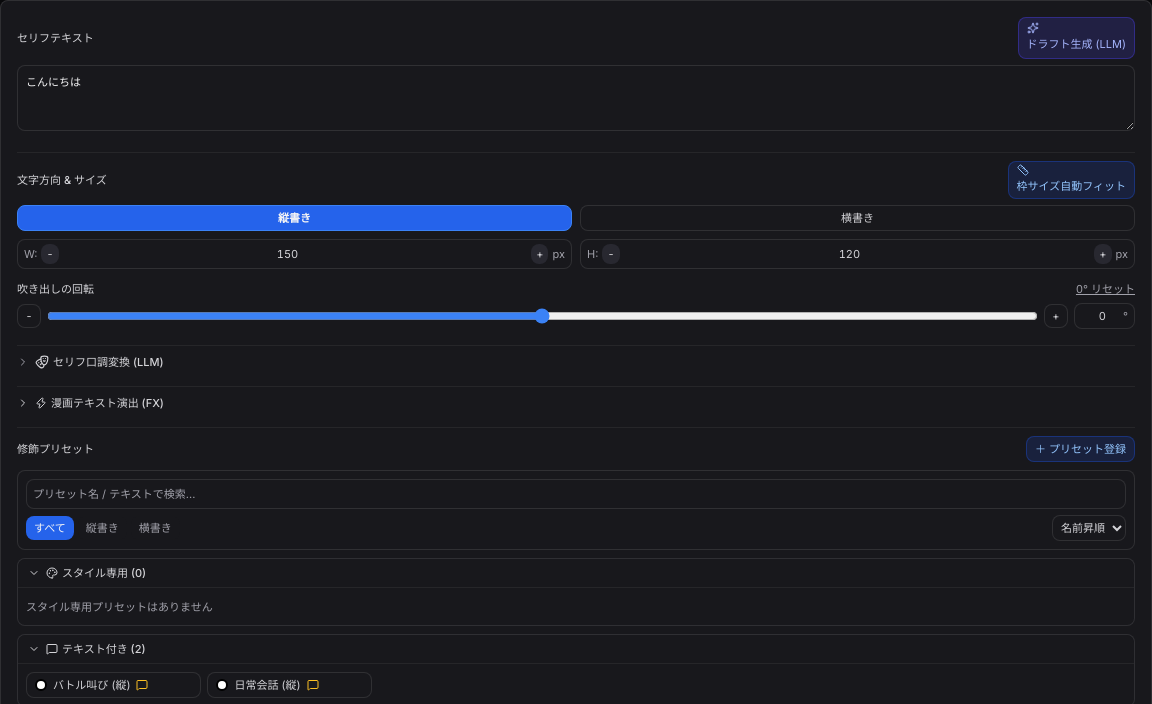
it: SpeechBubbleControls › filters presets in real-time by search query across name and text (AC-3)
Expected: the text "日常会話 (縦)" is shown, [234, 677, 301, 693]
Expected: the text "バトル叫び (縦)" is shown, [53, 677, 130, 693]
# Search by name
In the field named "プリセット検索": coordinates (576, 494) [26, 479, 1126, 509], type "バトル"
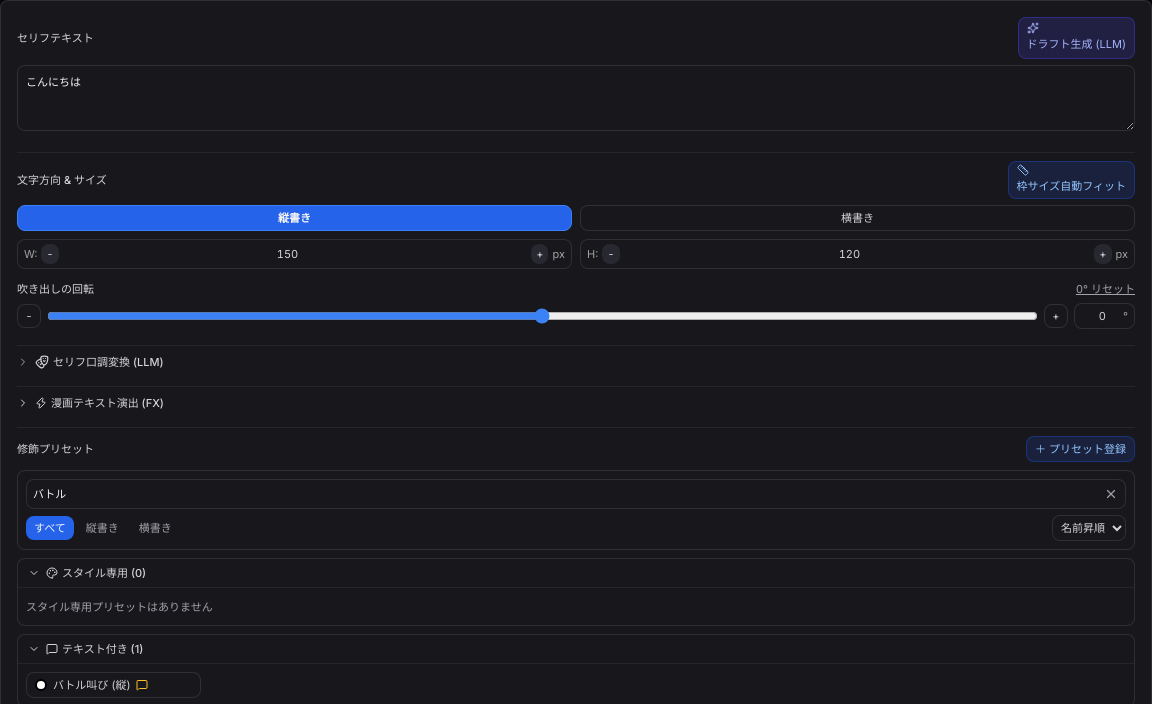
Expected: the text "バトル叫び (縦)" is shown, [53, 677, 130, 693]
Result: the button "日常会話 (縦)" is gone
# Search by text
Replace the text in the field named "プリセット検索" with "こんにちは": coordinates (576, 494) [26, 479, 1126, 509]
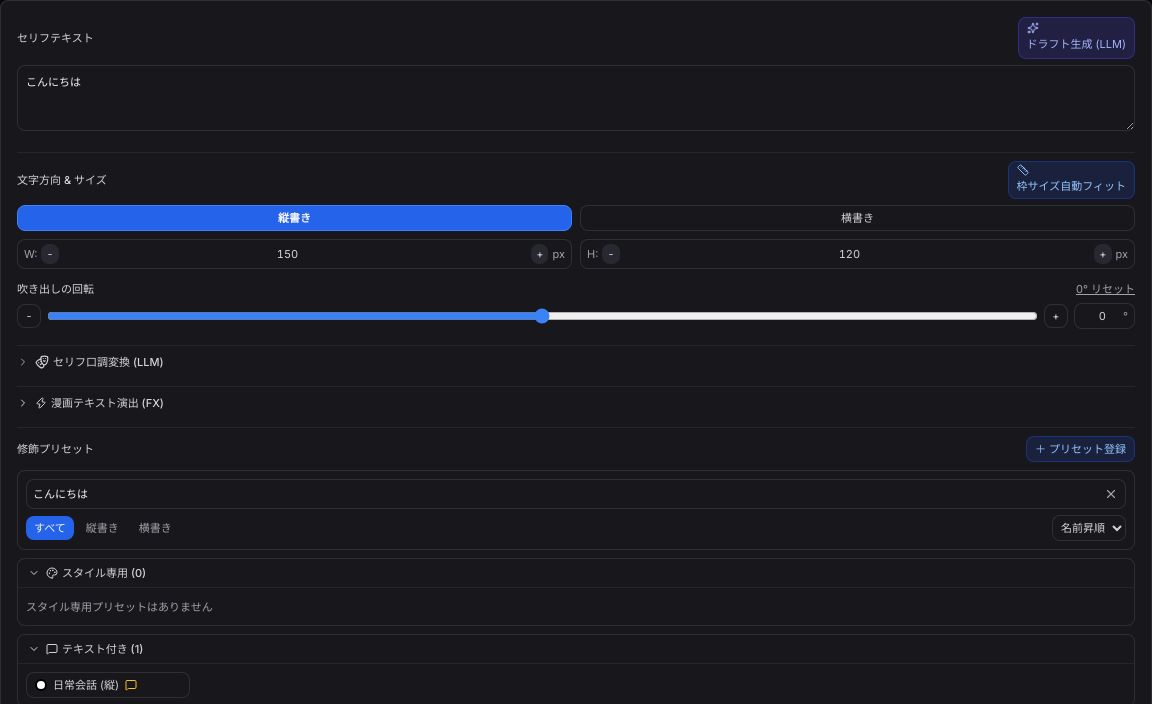
Result: the text "日常会話 (縦)" is shown at [53, 677, 119, 693]
Result: the button "バトル叫び (縦)" is gone
# Search non-matching
Replace the text in the field named "プリセット検索" with "該当なし検索語": coordinates (576, 494) [26, 479, 1126, 509]
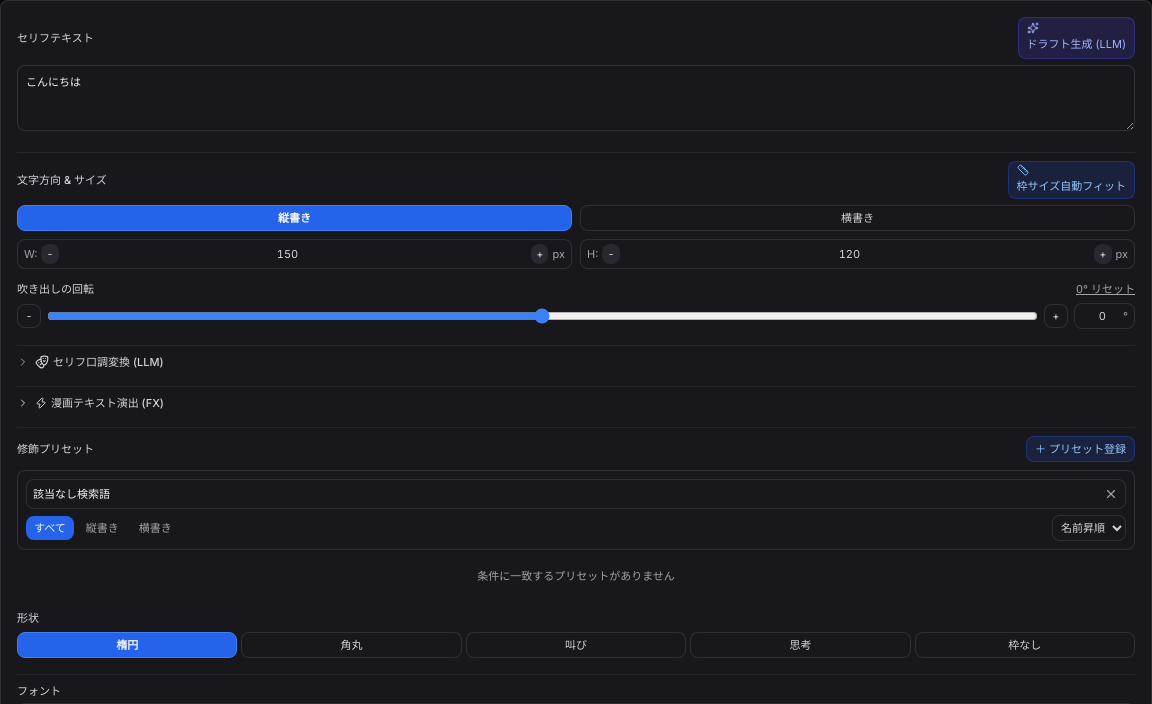
Result: the text "条件に一致するプリセットがありません" is shown at [477, 569, 675, 583]
# Clear search
Click the button named "検索クリア": coordinates (1111, 494) [1104, 487, 1118, 501]
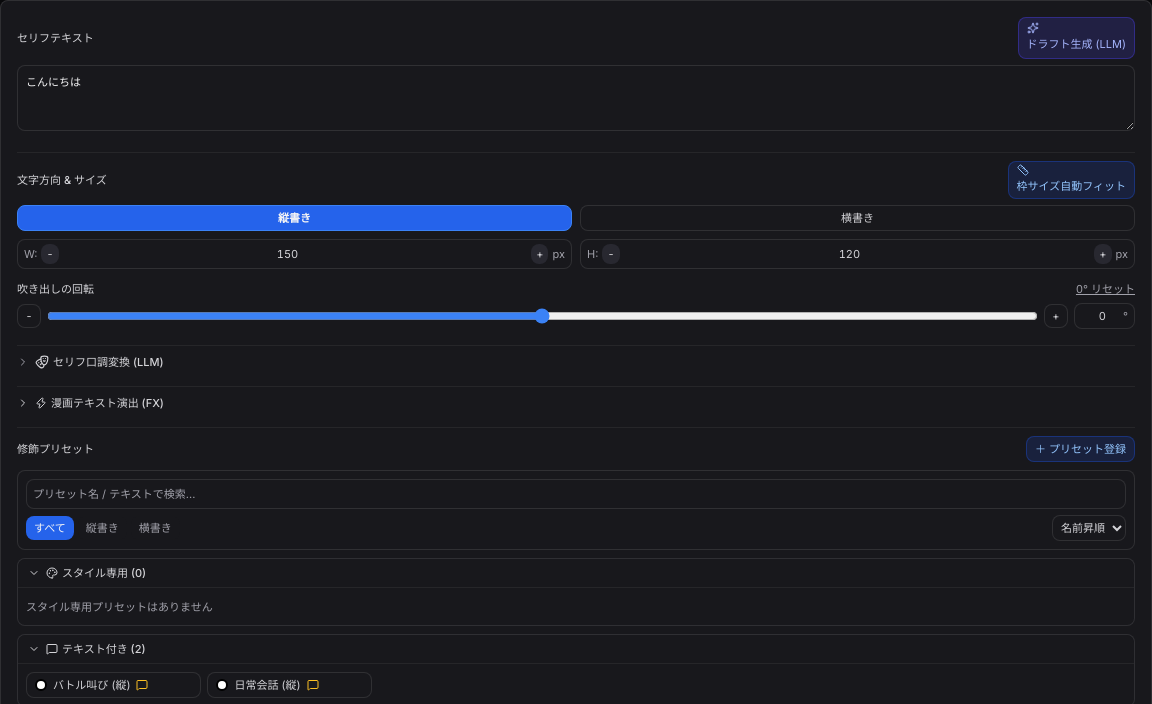
Result: the text "日常会話 (縦)" is shown at [234, 677, 301, 693]
Result: the text "バトル叫び (縦)" is shown at [53, 677, 130, 693]
